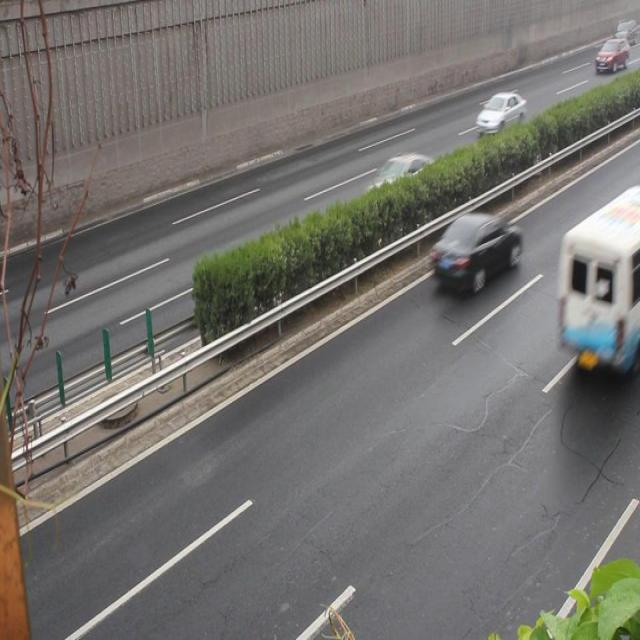car: (432, 211, 521, 292), (360, 155, 435, 221), (474, 91, 526, 139)
van: (559, 188, 640, 366)
